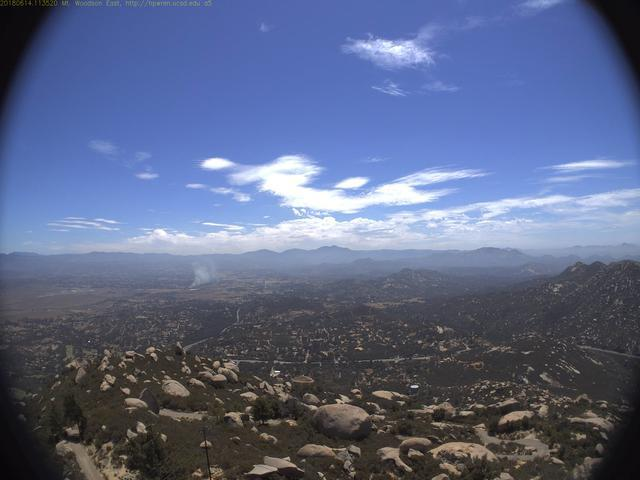smoke: (185, 260, 223, 291)
